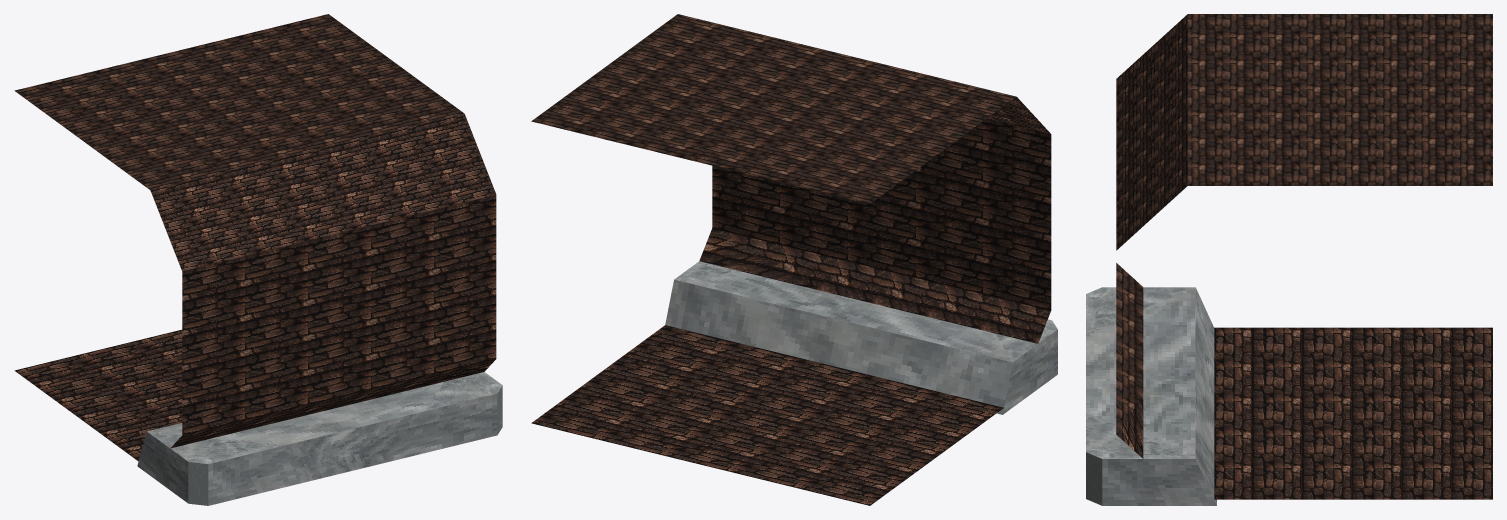
The model's file is Pipe5.glb.
3 views of the same model, side by side, from view 1: azimuth 30°, elevation 25°; view 2: azimuth 150°, elevation 25°; view 3: azimuth 270°, elevation 25° (orthographic). The views are drawn at different scales.
Visible parts, largest first — view 1: Plane.004; view 2: Plane.004; view 3: Plane.004.
Part boxes in pixels (x1,y1,x2,y2): Plane.004: (14, 14, 502, 505); Plane.004: (531, 14, 1057, 505); Plane.004: (1086, 14, 1492, 505).
Size of the model in its own units: 4 by 3.47 by 4.
2 materials, 2 textured.
